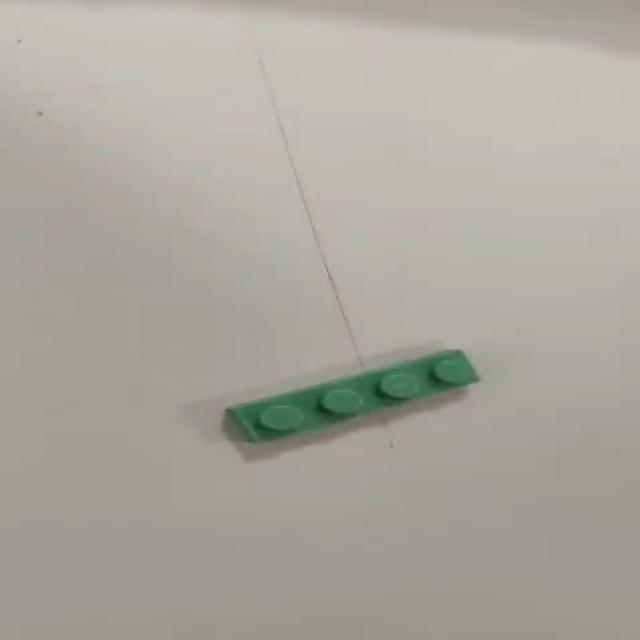C4x1x0: (215, 346, 480, 446)
